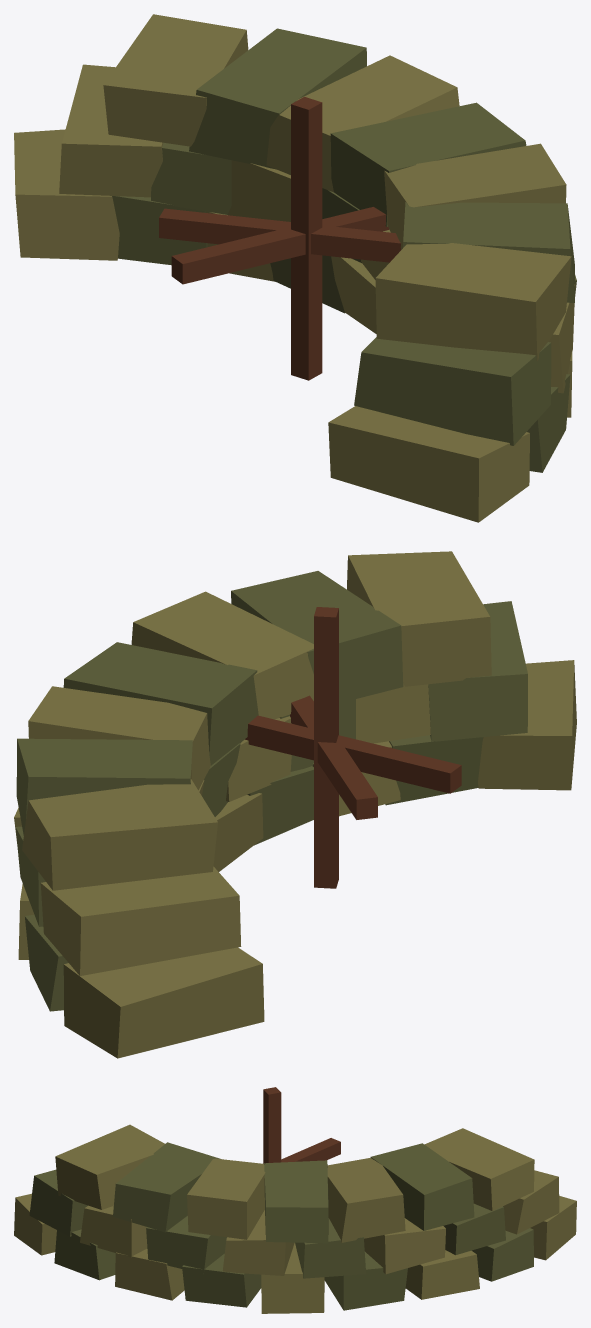
File: sandbags.glb
3 views of the same model, one above another, from view 1: azimuth 30°, elevation 25°; view 2: azimuth 150°, elevation 25°; view 3: azimuth 270°, elevation 25° (orthographic). The views are drawn at different scales.
Parts seen in each view (by area): view 1: sandbags; view 2: sandbags; view 3: sandbags.
Part boxes in pixels (x1,y1,x2,y2): sandbags: [14, 14, 576, 522]; sandbags: [14, 551, 576, 1058]; sandbags: [14, 1087, 576, 1313].
Bounding box in the file's own units: 2.19 × 1.6 × 4.93.
